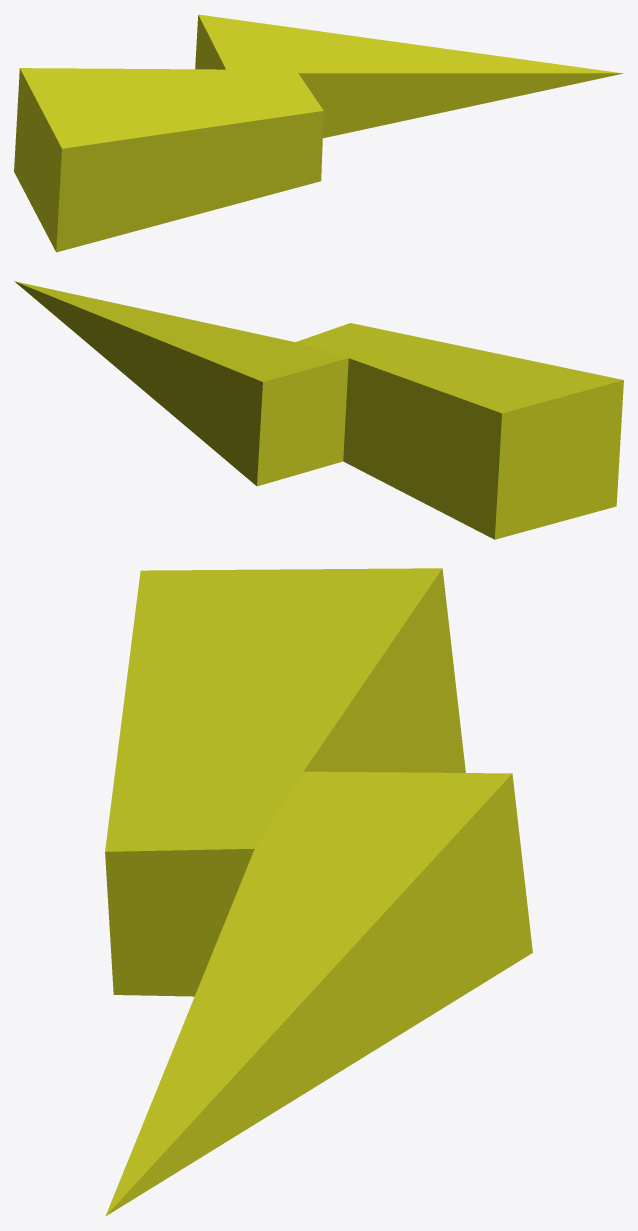
File: bolt.fbx
3 views of the same model, one above another, from view 1: azimuth 30°, elevation 25°; view 2: azimuth 150°, elevation 25°; view 3: azimuth 270°, elevation 25° (orthographic). The views are drawn at different scales.
Parts seen in each view (by area): view 1: Bolt; view 2: Bolt; view 3: Bolt.
Part boxes in pixels (x1,y1,x2,y2): Bolt: [14, 14, 623, 252]; Bolt: [14, 281, 623, 539]; Bolt: [105, 568, 532, 1216].
Bounding box in the file's own units: 0.3343 × 0.0726 × 0.112.
